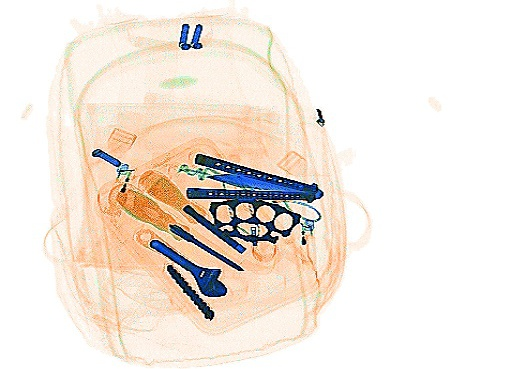knife: (182, 150, 325, 204)
lighter: (102, 159, 135, 228), (298, 217, 319, 297)
